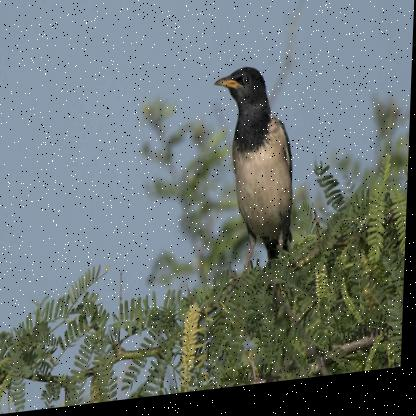Burung: (209, 68, 306, 279)
